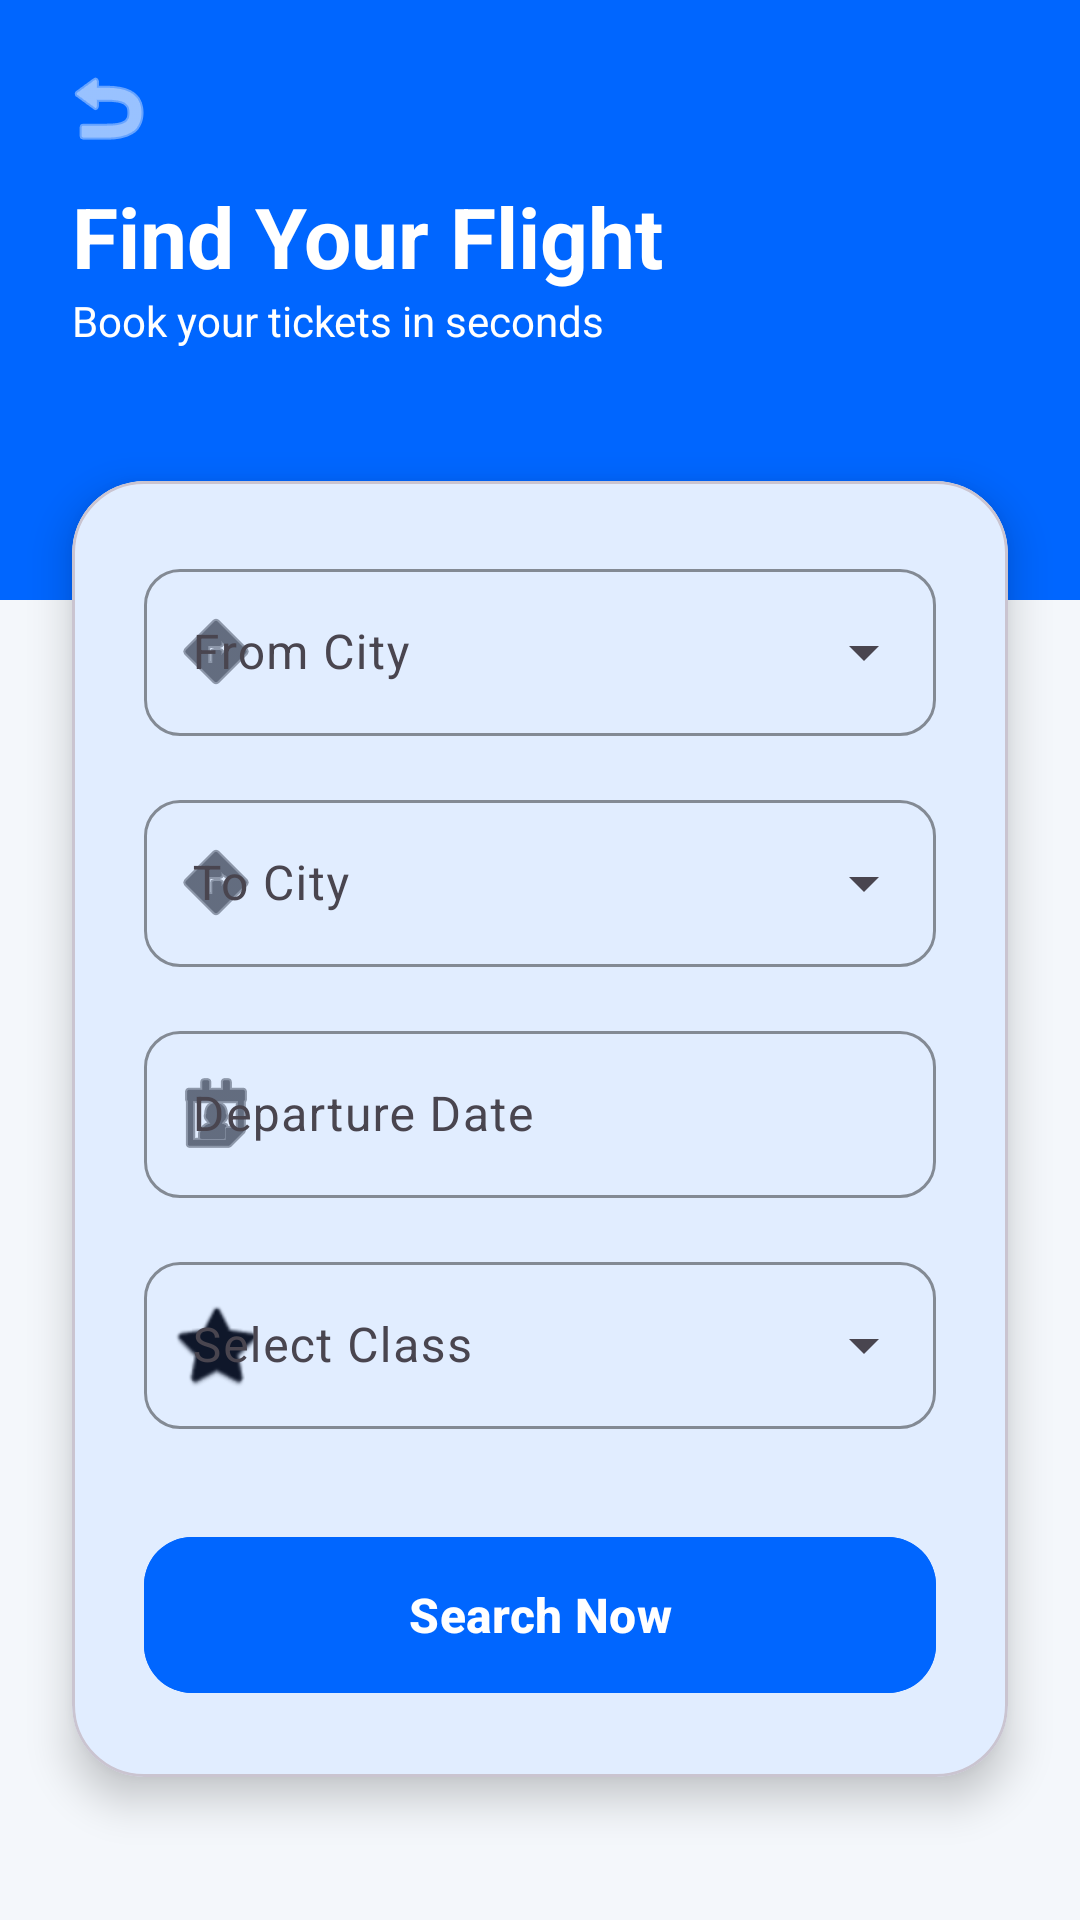

Where icons sit on this 1080 × 1920 app screen, as (x1, y1, x2, y2):
Back: (75, 77, 144, 140)
